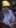hard-hat: (1, 0, 11, 7)
